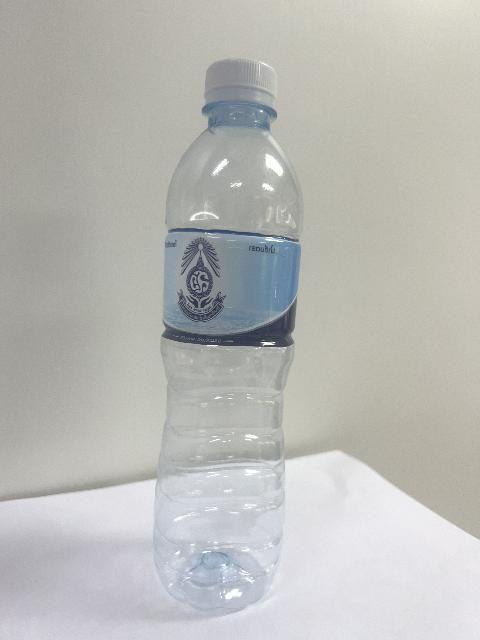bottle: (153, 59, 301, 609)
